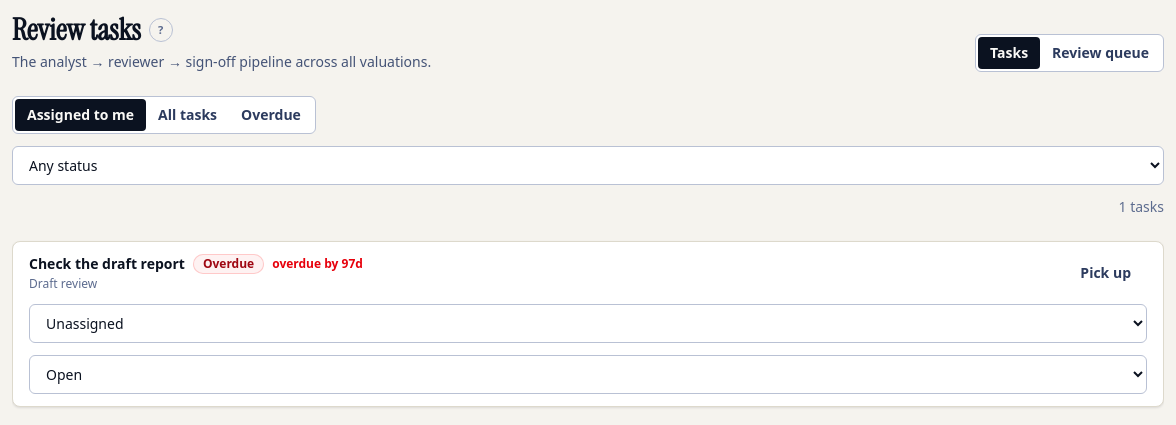
Scenario: TasksPage › when the operations roster fails to load › offers no such note when the roster loads
The image size is (1176, 425).
Click the button "Review queue" at (1101, 53), box [1040,37,1161,69]
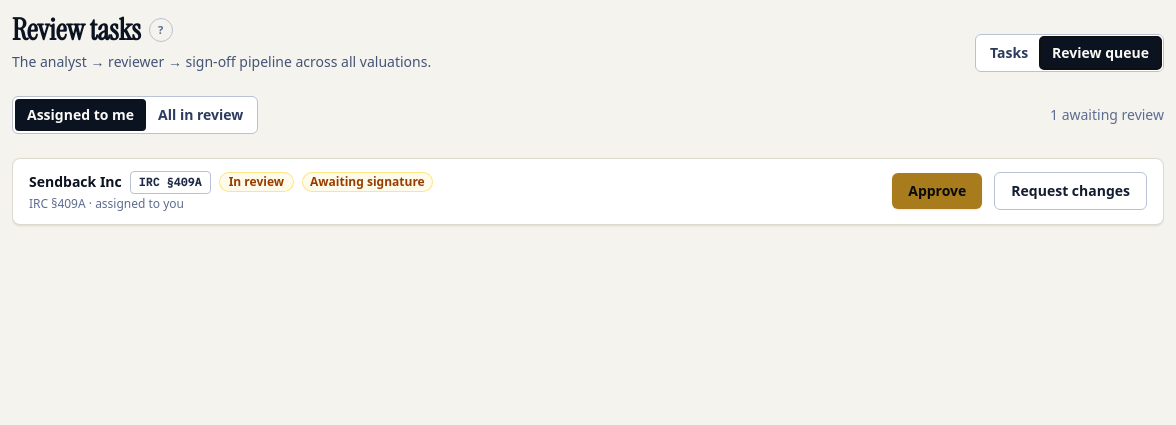
Expected: the link "Sendback Inc" is shown, [29,172,122,192]
